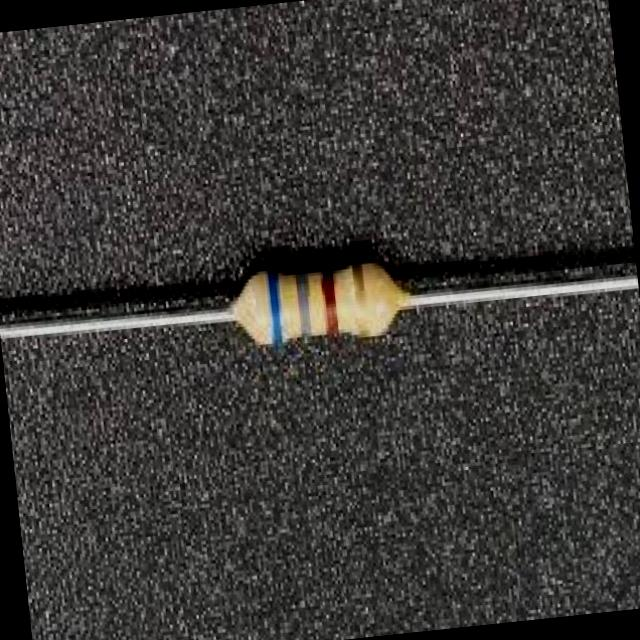Resistor: (233, 263, 407, 346)
blue: (263, 266, 285, 345)
brown: (322, 267, 343, 334), (353, 261, 369, 336)
purple: (296, 270, 312, 337)
